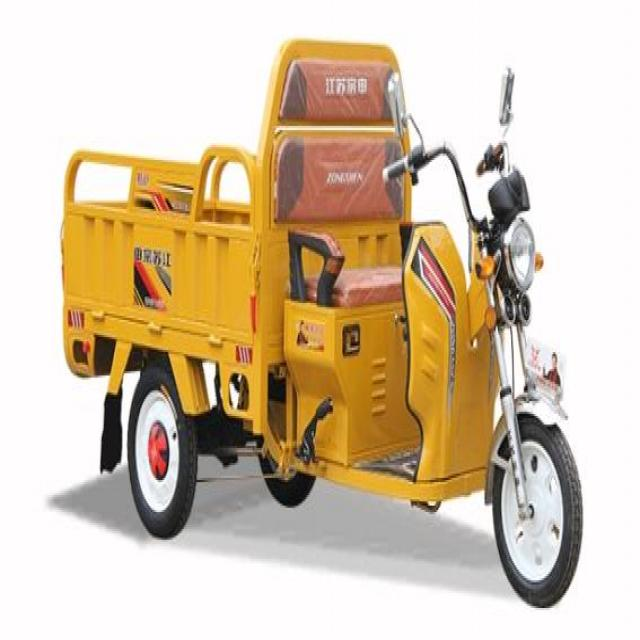tricycle: (60, 30, 582, 604)
